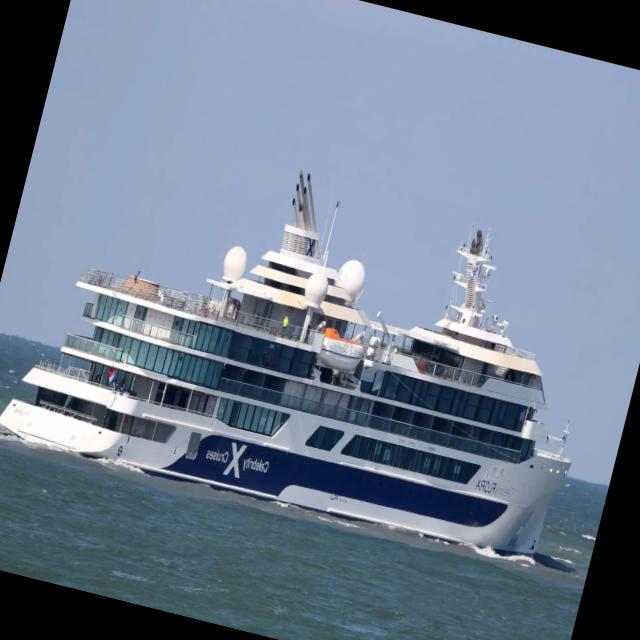Cruise: (0, 172, 570, 556)
